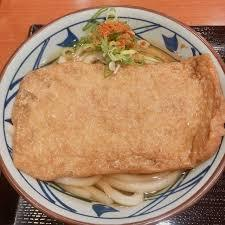kitune: (5, 8, 222, 219)
